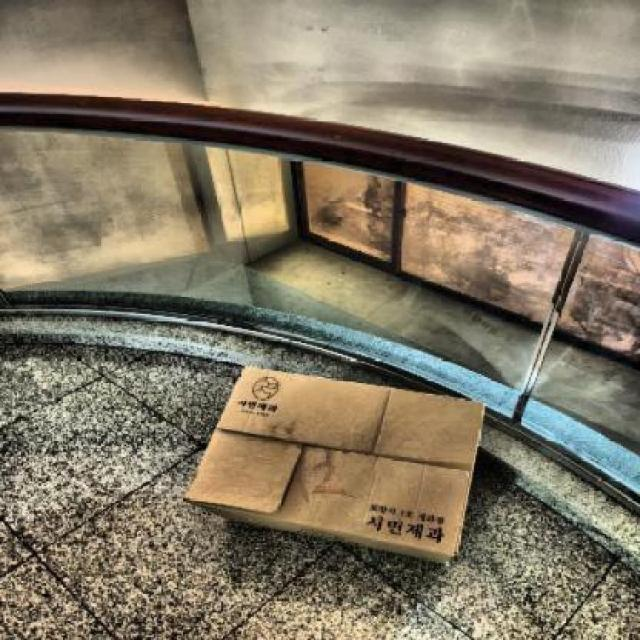box: (188, 357, 490, 578)
